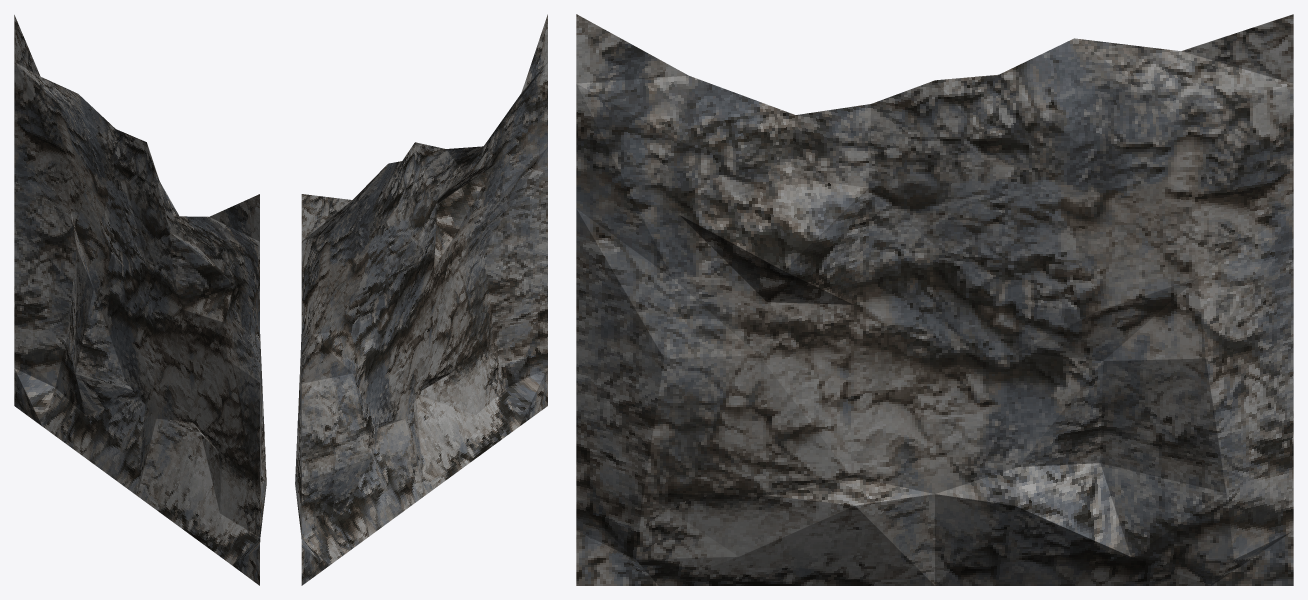
The model's file is wallTop_02_seamless.glb.
3 views of the same model, side by side, from view 1: azimuth 30°, elevation 25°; view 2: azimuth 150°, elevation 25°; view 3: azimuth 270°, elevation 25° (orthographic). The views are drawn at different scales.
Parts seen in each view (by area): view 1: wallTop_02_seamless; view 2: wallTop_02_seamless; view 3: wallTop_02_seamless.
Part boxes in pixels (x1,y1,x2,y2): wallTop_02_seamless: (14,15,266,585); wallTop_02_seamless: (295,14,547,585); wallTop_02_seamless: (576,14,1293,585).
Bounding box in the file's own units: 2.18 × 14.07 × 16.
Materials: 1 (1 with a texture image).
